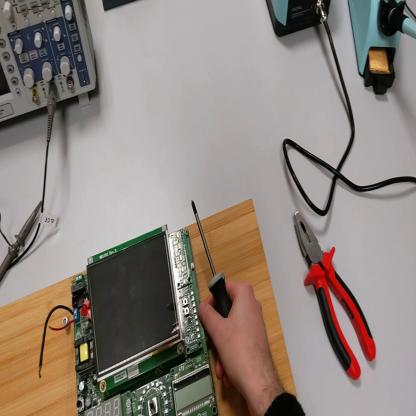hand: (198, 277, 274, 399)
low voltage board: (38, 223, 218, 415)
oscilloscope: (2, 1, 96, 126)
oscilloscope probe tip: (2, 203, 42, 281)
pliers: (291, 214, 378, 385)
screwdriver-: (191, 199, 234, 319)
welder base: (348, 1, 405, 100)
welder probe tip: (391, 11, 416, 38)
welder station: (268, 2, 333, 39)
working area: (1, 201, 302, 414)
